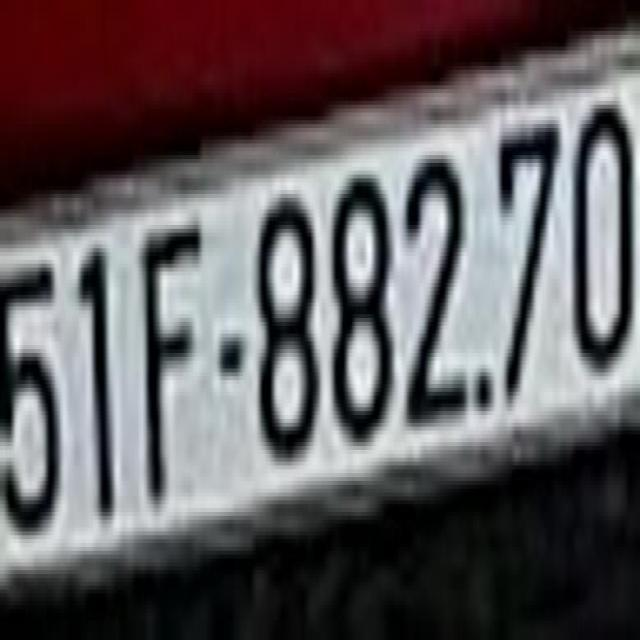0: (578, 96, 632, 372)
1: (77, 233, 116, 532)
2: (414, 155, 469, 431)
5: (0, 264, 59, 512)
7: (496, 112, 560, 396)
8: (335, 155, 389, 431), (260, 190, 318, 434)
F: (144, 206, 204, 520)
